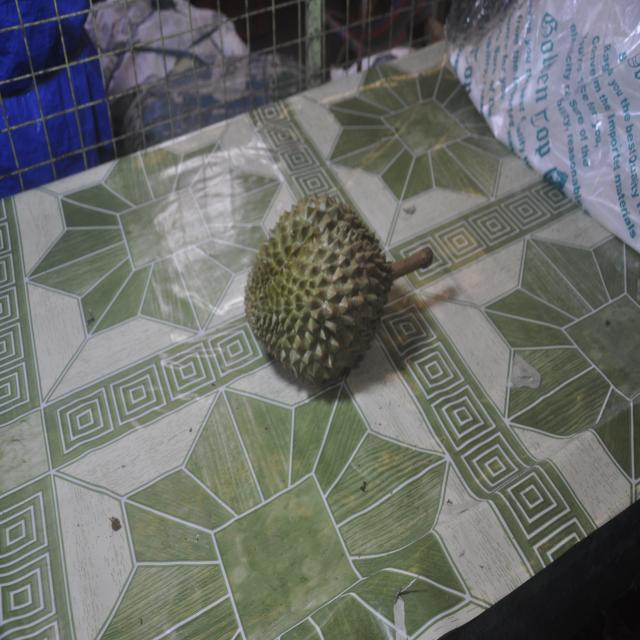mature: (245, 194, 433, 383)
